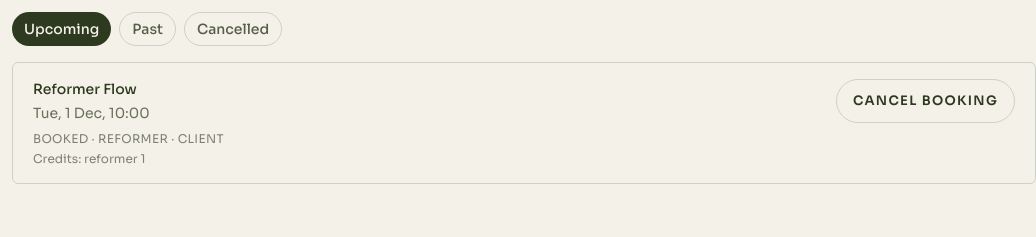
Test: BookingsTab › wires cancel booking to the staff cancel action
This screenshot has width=1036, height=237.
Click the button "Cancel booking" at x=925, y=101, box 836,79 -> 1015,123
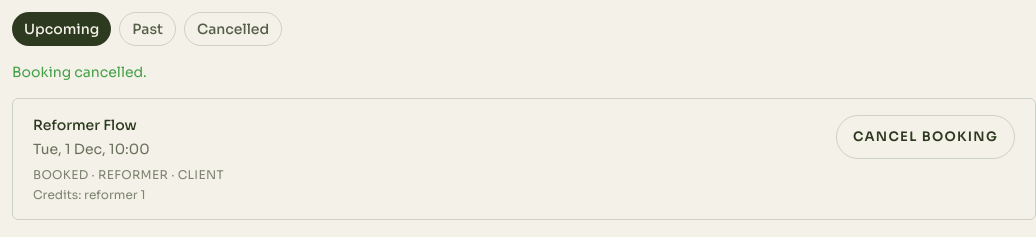
Result: the text "Booking cancelled." is shown at 12,63 -> 147,81
